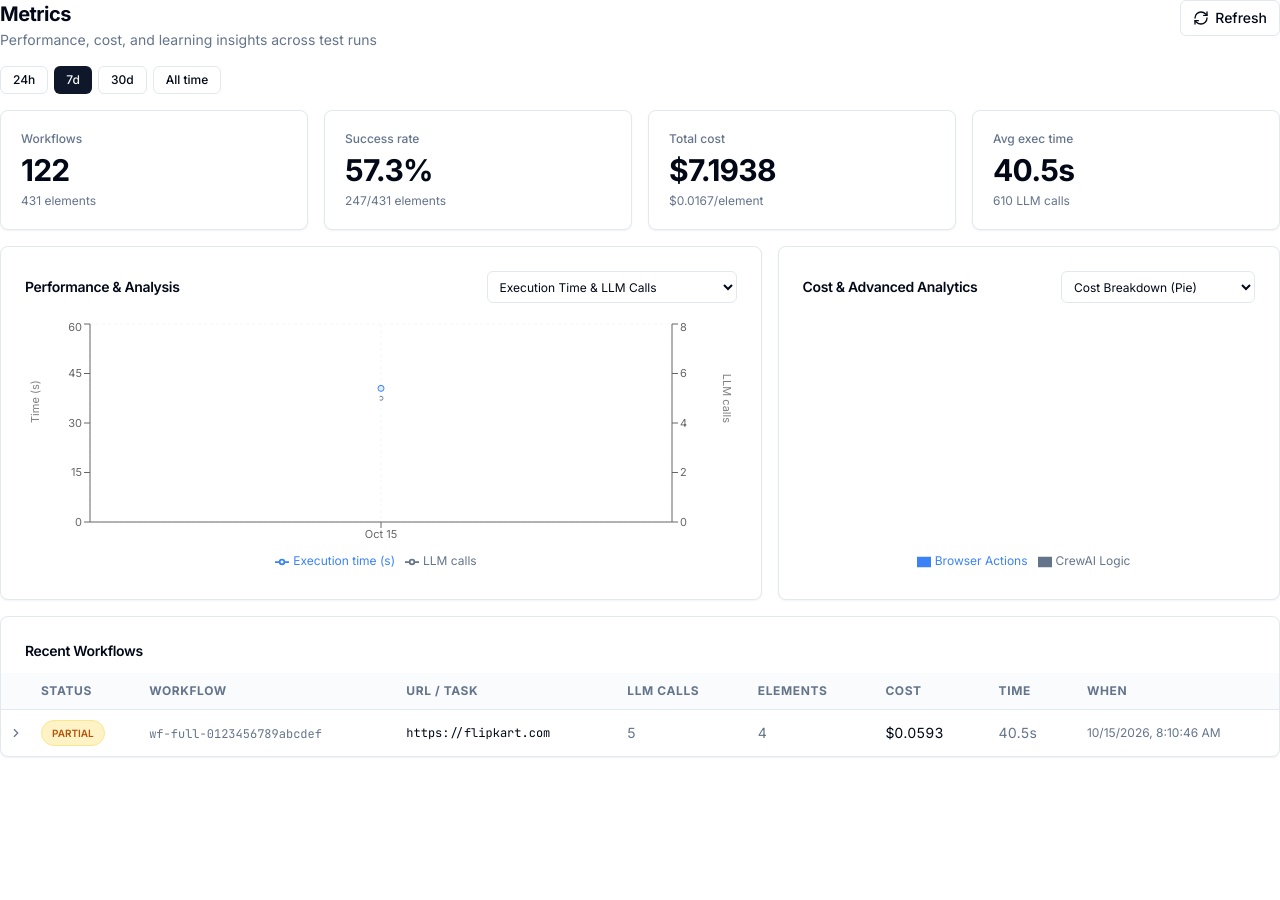
Scenario: MetricsPage — the recent-runs table › expands a row into its cost and token breakdown
Click the text "https://flipkart.com" at (478,733), box [406,725,550,741]
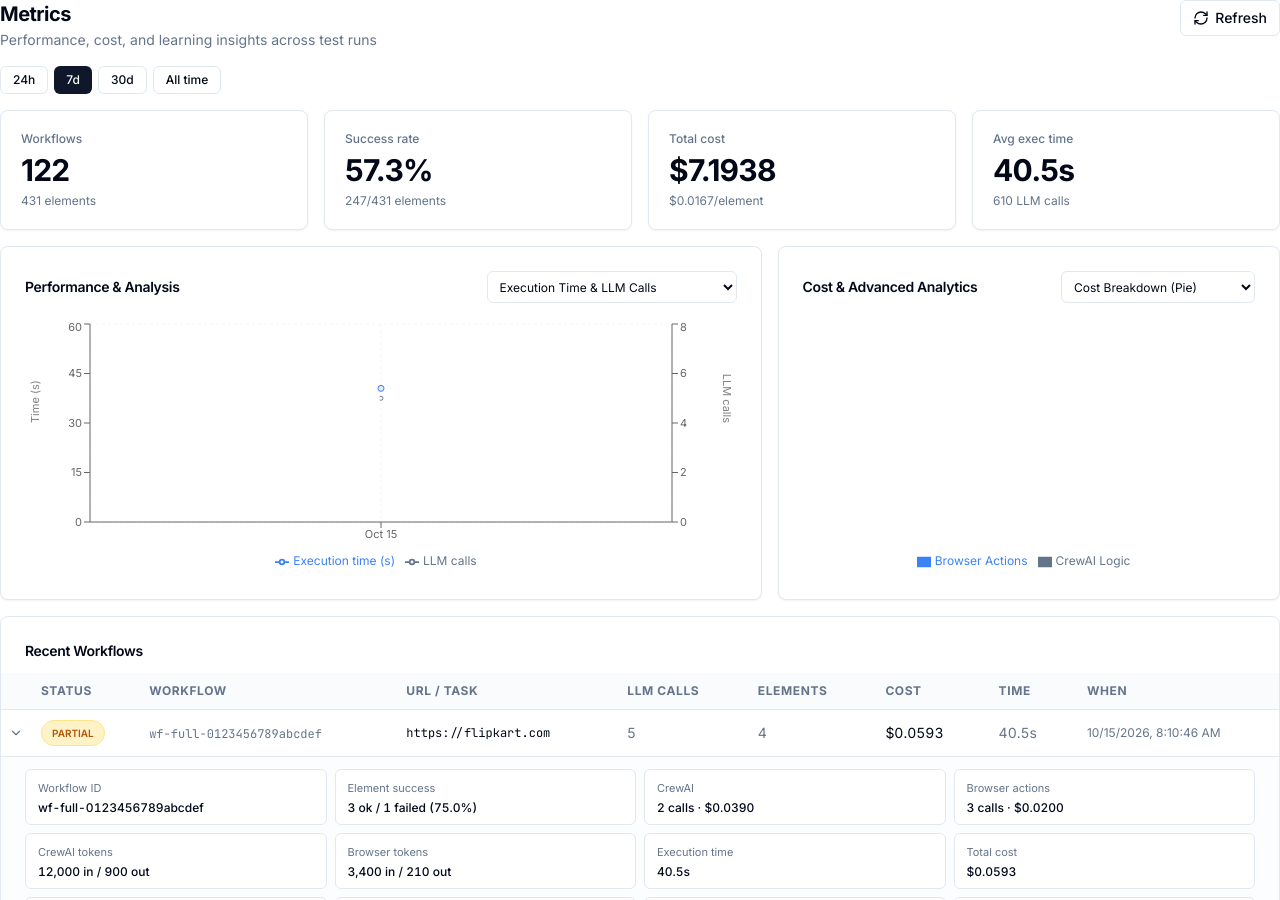
Now the text "CrewAI" is shown, box [657,781,694,795]
Now the text "2 calls · $0.0390" is shown, box [657,800,754,815]
Now the text "3 calls · $0.0200" is shown, box [966,800,1064,815]
